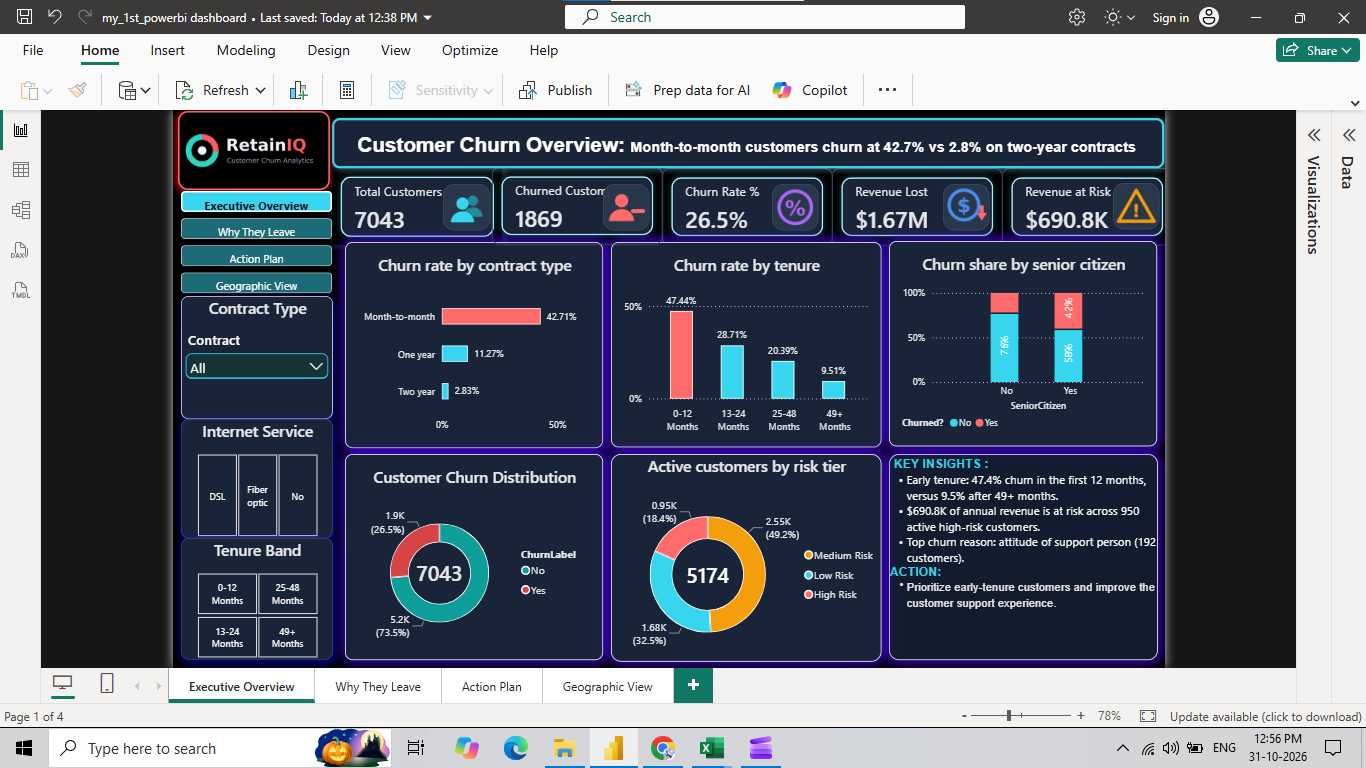

What the dashboard file says about the page in this screenshot:
{"tool":"powerbi","page":{"name":"Executive Overview","canvas":[1280,720],"ordinal":0},"visuals":[{"type":"cardVisual","title":"Total Customers","fields":{"Data":["_Measures.Total Customers"]},"box":[205.5,75.1,220,100],"z":0},{"type":"cardVisual","fields":{"Data":["_Measures.Churn Rate %"]},"box":[630.7,75.1,220,100],"z":1000},{"type":"cardVisual","fields":{"Data":["_Measures.Revenue Lost"]},"box":[850.4,75.1,220,100],"z":2000},{"type":"cardVisual","fields":{"Data":["_Measures.Revenue at Risk"]},"box":[500.3,765.4,280,210],"z":3000},{"type":"clusteredBarChart","title":"Churn rate by contract type","fields":{"Category":["Customers.Contract"],"Y":["_Measures.Churn Rate %"]},"box":[222.5,170.1,333.1,266.5],"z":4000},{"type":"clusteredColumnChart","title":"Churn rate by tenure","fields":{"Category":["Customers.TenureBand"],"Y":["_Measures.Churn Rate %"]},"box":[565.5,170.1,348.7,265],"z":5000},{"type":"donutChart","title":"Customer Churn Distribution","fields":{"Category":["Customers.ChurnLabel"],"Y":["_Measures.Total Customers"]},"box":[222.5,443.6,333,266],"z":6000},{"type":"textbox","box":[924.1,443.6,347.2,266.5],"z":7000},{"type":"cardVisual","title":"Churned","fields":{"Data":["_Measures.Churned Customers"]},"box":[411,73.7,220,100],"z":8000},{"type":"cardVisual","fields":{"Data":["_Measures.Revenue at Risk"]},"box":[1070.1,75.1,220,100],"z":9000},{"type":"slicer","title":"Contract Type","fields":{"Values":["Customers.Contract"]},"box":[9.9,239.5,195.6,158.7],"z":10000},{"type":"slicer","title":"Internet Service","fields":{"Values":["Customers.InternetService"]},"box":[9.9,398.3,195.6,154.5],"z":11000},{"type":"slicer","title":"Tenure Band","fields":{"Values":["Customers.TenureBand"]},"box":[9.9,552.8,195.6,157.3],"z":12000},{"type":"textbox","box":[205.5,9.9,1074.3,65.2],"z":13000},{"type":"image","box":[7,1,195.6,102],"z":14000},{"type":"pageNavigator","box":[9.9,104.9,195.6,134.6],"z":15000},{"type":"image","box":[349,95,60.9,60],"z":16000},{"type":"image","box":[555,95,60,60],"z":17000},{"type":"image","box":[773,95,60,60],"z":18000},{"type":"image","box":[994,95,60,60],"z":19000},{"type":"image","box":[1213,94,60,60],"z":20000},{"type":"donutChart","title":"Active customers by risk tier","fields":{"Category":["Customers.RiskTier"],"Y":["_Measures.Total Customers"]},"box":[565.5,443.6,348.7,267.9],"z":21000},{"type":"hundredPercentStackedColumnChart","title":"Churn share by senior citizen","fields":{"Category":["Customers.SeniorCitizen"],"Series":["Customers.ChurnLabel"],"Y":["_Measures.Total Customers"]},"box":[924.1,168.7,346,265],"z":22000}]}

Visuals, with their boxes on the page's 1280x720 design canvas (x1, y1, x2, y2). These are canvas units, not pixel positions in the 1366x768 screenshot, which may show the page scaled, cropped or inside an application window:
"Total Customers" cardVisual: locate(206, 75, 426, 175)
cardVisual - _Measures.Churn Rate %: locate(631, 75, 851, 175)
cardVisual - _Measures.Revenue Lost: locate(850, 75, 1070, 175)
cardVisual - _Measures.Revenue at Risk: locate(500, 765, 780, 975)
"Churn rate by contract type" clusteredBarChart: locate(222, 170, 556, 437)
"Churn rate by tenure" clusteredColumnChart: locate(566, 170, 914, 435)
"Customer Churn Distribution" donutChart: locate(222, 444, 556, 710)
textbox: locate(924, 444, 1271, 710)
"Churned" cardVisual: locate(411, 74, 631, 174)
cardVisual - _Measures.Revenue at Risk: locate(1070, 75, 1290, 175)
"Contract Type" slicer: locate(10, 240, 206, 398)
"Internet Service" slicer: locate(10, 398, 206, 553)
"Tenure Band" slicer: locate(10, 553, 206, 710)
textbox: locate(206, 10, 1280, 75)
image: locate(7, 1, 203, 103)
pageNavigator: locate(10, 105, 206, 240)
image: locate(349, 95, 410, 155)
image: locate(555, 95, 615, 155)
image: locate(773, 95, 833, 155)
image: locate(994, 95, 1054, 155)
image: locate(1213, 94, 1273, 154)
"Active customers by risk tier" donutChart: locate(566, 444, 914, 712)
"Churn share by senior citizen" hundredPercentStackedColumnChart: locate(924, 169, 1270, 434)
